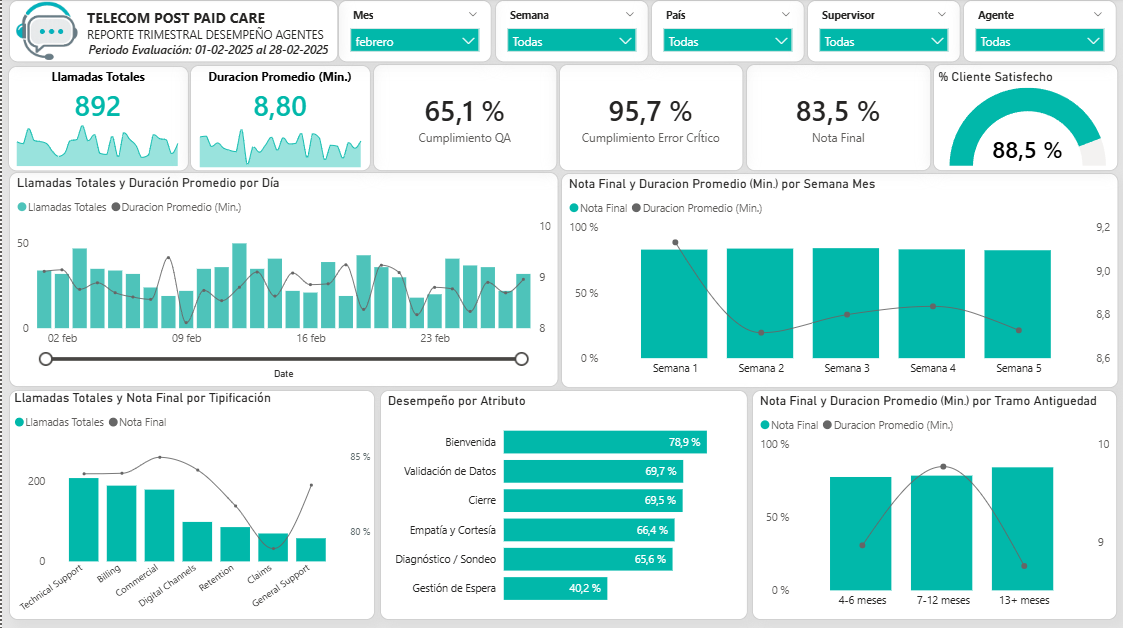

This screenshot's page, from the dashboard's own definition file:
{"tool":"powerbi","page":{"name":"GENERAL","canvas":[1280,720],"ordinal":0},"visuals":[{"type":"cardVisual","fields":{"Data":["_Medidas.Duracion Promedio (Min.)"]},"box":[214.2,76.5,205.7,121.4],"z":0,"group":"g5"},{"type":"cardVisual","fields":{"Data":["_Medidas.Total LLamadas"]},"box":[6.9,77.6,205.5,119.7],"z":0,"group":"g3"},{"type":"group","id":"g1","title":"Grupo 2","box":[8,198,1263.4,246.3],"z":0},{"type":"lineClusteredColumnComboChart","title":"Llamadas Totales y Duración Promedio por Día","fields":{"Category":["Calendario.Date"],"Y":["_Medidas.Llamadas Totales"],"Y2":["_Medidas.Duracion Promedio (Min.)"]},"box":[8,198,626.1,244.9],"z":0,"group":"g1"},{"type":"lineClusteredColumnComboChart","title":"Llamadas Totales  y Nota Final por Tipificación","fields":{"Category":["Sabana_Telecom_Postpaid_Care.tipification_group"],"Y":["_Medidas.Total LLamadas"],"Y2":["_Medidas.Nota Final"]},"box":[7.5,446.2,417,262.3],"z":0,"group":"g2"},{"type":"cardVisual","fields":{"Data":["_Medidas.Nota Final"]},"box":[847.4,75.5,210.9,122.1],"z":1000,"group":"g3"},{"type":"lineStackedColumnComboChart","fields":{"Category":["Calendario.Semana Mes"],"Y":["_Medidas.Nota Final"],"Y2":["_Medidas.Duracion Promedio (Min.)"]},"box":[636.6,199.3,634.8,244.9],"z":1000,"group":"g1"},{"type":"group","id":"g2","title":"Grupo 3","box":[7.5,446.2,1262.5,262.5],"z":1000},{"type":"barChart","title":"Desempeño por Atributo","fields":{"Y":["_Medidas.% Cumplimiento Atributo"],"Category":["Fact_Atributos_Llamada.Atributo"]},"box":[430.3,446.4,419,262.3],"z":1000,"group":"g2"},{"type":"slicer","fields":{"Values":["Calendario.Semana Mes"]},"box":[561.5,2.3,175.3,70.6],"z":2000,"group":"g7"},{"type":"group","id":"g3","title":"Grupo 1","box":[6.9,75.5,1264.9,122.1],"z":2000},{"type":"cardVisual","fields":{"Data":["_Medidas.% Cumplimiento Error No Crítico"]},"box":[422.9,75.5,209.5,122.1],"z":2000,"group":"g3"},{"type":"lineStackedColumnComboChart","fields":{"Category":["Sabana_Telecom_Postpaid_Care.Tramo Antiguedad"],"Y":["_Medidas.Nota Final"],"Y2":["_Medidas.Duracion Promedio (Min.)"]},"box":[854,446.4,416,262.3],"z":2000,"group":"g2"},{"type":"group","id":"g4","title":"Grupo 5","box":[8,2.3,1262.3,74.9],"z":3000,"group":"g6"},{"type":"slicer","fields":{"Values":["Calendario.Mes"]},"box":[382.4,2.3,175.3,70.6],"z":3000,"group":"g7"},{"type":"cardVisual","fields":{"Data":["_Medidas.% Cumplimiento Error Critico"]},"box":[635.1,75.5,209.5,122.1],"z":3000,"group":"g3"},{"type":"lineChart","fields":{"Y":["_Medidas.Total LLamadas"],"Category":["Calendario.Date"]},"box":[6.9,136.7,203.4,59.7],"z":3000},{"type":"slicer","fields":{"Values":["Sabana_Telecom_Postpaid_Care.country"]},"box":[739.3,2.3,175.3,70.6],"z":4000,"group":"g7"},{"type":"group","id":"g5","title":"Grupo 6","box":[214.2,76.5,205.7,122],"z":4000},{"type":"lineChart","fields":{"Y":["_Medidas.Duracion Promedio (Min.)"],"Category":["Calendario.Date"]},"box":[215.3,138.4,203.4,60.1],"z":4000,"group":"g5"},{"type":"group","id":"g6","title":"Grupo 2","box":[0,2.3,1270.3,74.9],"z":5000},{"type":"slicer","fields":{"Values":["Sabana_Telecom_Postpaid_Care.supervisor"]},"box":[917.1,2.3,175.3,70.6],"z":5000,"group":"g7"},{"type":"gauge","fields":{"Y":["_Medidas.Cliente Satisfecho"]},"box":[1060.9,75.5,210.9,122.1],"z":5000,"group":"g3"},{"type":"slicer","fields":{"Values":["Sabana_Telecom_Postpaid_Care.agent_name"]},"box":[1095,2.3,175.3,70.6],"z":6000,"group":"g7"},{"type":"textbox","box":[8,2.3,371.7,70.6],"z":7000,"group":"g7"},{"type":"image","box":[0,3.4,101.4,68.4],"z":7000,"group":"g6"},{"type":"group","id":"g7","title":"Grupo 4","box":[8,2.3,1262.3,70.6],"z":9001,"group":"g4"},{"type":"cardVisual","fields":{"Data":["_Medidas.Periodo Evaluacion"]},"box":[86.6,37.3,323.5,39.9],"z":9501,"group":"g4"}]}

Visuals, with their boxes in screenshot pixels (x1, y1, x2, y2), scaled from the page's 1280x720 canvas onto the 1123x628 screenshot:
cardVisual - _Medidas.Duracion Promedio (Min.): left=188, top=67, right=368, bottom=173
cardVisual - _Medidas.Total LLamadas: left=6, top=68, right=186, bottom=172
"Grupo 2" group: left=7, top=173, right=1115, bottom=388
"Llamadas Totales y Duración Promedio por Día" lineClusteredColumnComboChart: left=7, top=173, right=556, bottom=386
"Llamadas Totales  y Nota Final por Tipificación" lineClusteredColumnComboChart: left=7, top=389, right=372, bottom=618
cardVisual - _Medidas.Nota Final: left=743, top=66, right=928, bottom=172
lineStackedColumnComboChart - Calendario.Semana Mes x _Medidas.Nota Final: left=559, top=174, right=1115, bottom=387
"Grupo 3" group: left=7, top=389, right=1114, bottom=618
"Desempeño por Atributo" barChart: left=378, top=389, right=745, bottom=618
slicer - Calendario.Semana Mes: left=493, top=2, right=646, bottom=64
"Grupo 1" group: left=6, top=66, right=1116, bottom=172
cardVisual - _Medidas.% Cumplimiento Error No Crítico: left=371, top=66, right=555, bottom=172
lineStackedColumnComboChart - Sabana_Telecom_Postpaid_Care.Tramo Antiguedad x _Medidas.Nota Final: left=749, top=389, right=1114, bottom=618
"Grupo 5" group: left=7, top=2, right=1114, bottom=67
slicer - Calendario.Mes: left=335, top=2, right=489, bottom=64
cardVisual - _Medidas.% Cumplimiento Error Critico: left=557, top=66, right=741, bottom=172
lineChart - _Medidas.Total LLamadas x Calendario.Date: left=6, top=119, right=185, bottom=171
slicer - Sabana_Telecom_Postpaid_Care.country: left=649, top=2, right=802, bottom=64
"Grupo 6" group: left=188, top=67, right=368, bottom=173
lineChart - _Medidas.Duracion Promedio (Min.) x Calendario.Date: left=189, top=121, right=367, bottom=173
"Grupo 2" group: left=0, top=2, right=1114, bottom=67
slicer - Sabana_Telecom_Postpaid_Care.supervisor: left=805, top=2, right=958, bottom=64
gauge - _Medidas.Cliente Satisfecho: left=931, top=66, right=1116, bottom=172
slicer - Sabana_Telecom_Postpaid_Care.agent_name: left=961, top=2, right=1114, bottom=64
textbox: left=7, top=2, right=333, bottom=64
image: left=0, top=3, right=89, bottom=63
"Grupo 4" group: left=7, top=2, right=1114, bottom=64
cardVisual - _Medidas.Periodo Evaluacion: left=76, top=33, right=360, bottom=67
